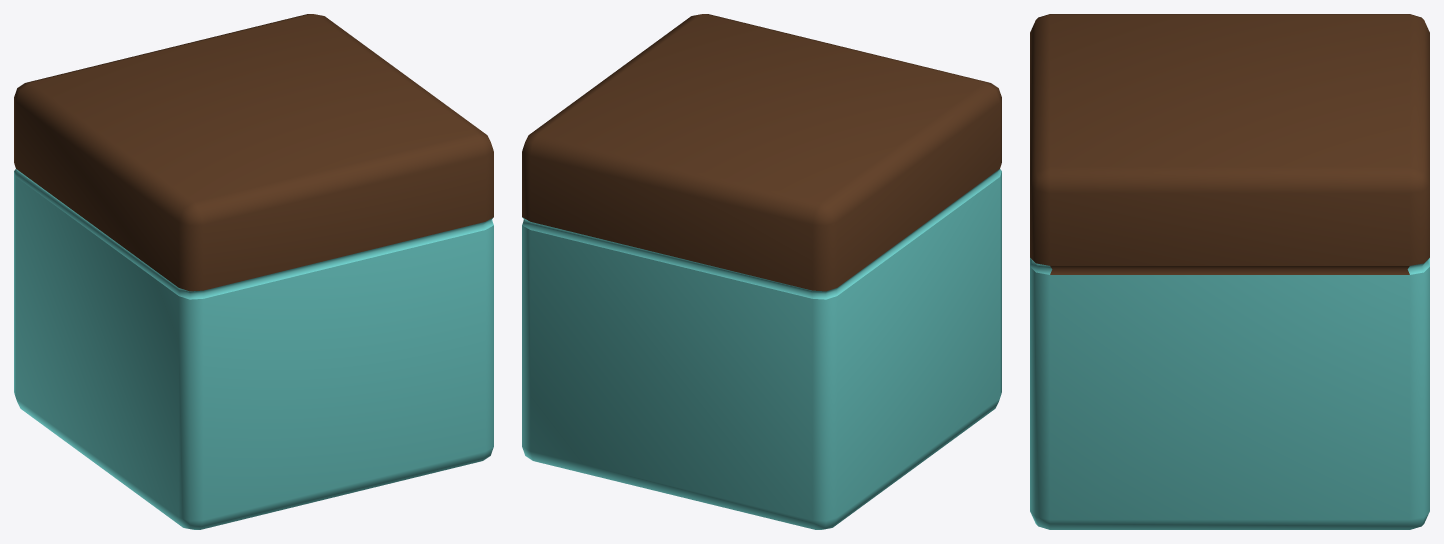
The model's file is tanahbasah.fbx.
The picture shows the model from 3 angles, left to right: view 1: azimuth 30°, elevation 25°; view 2: azimuth 150°, elevation 25°; view 3: azimuth 270°, elevation 25°; orthographic projection. The views are drawn at different scales.
Visible parts, largest first — view 1: 3D_Tile_Ground_01, 3D_Tile_Ground_01.001; view 2: 3D_Tile_Ground_01, 3D_Tile_Ground_01.001; view 3: 3D_Tile_Ground_01.001, 3D_Tile_Ground_01.
Part boxes in pixels (x1,y1,x2,y2): 3D_Tile_Ground_01: (14,169,493,529); 3D_Tile_Ground_01.001: (14,14,493,291); 3D_Tile_Ground_01: (522,169,1001,529); 3D_Tile_Ground_01.001: (522,14,1001,291); 3D_Tile_Ground_01.001: (1030,14,1429,274); 3D_Tile_Ground_01: (1030,258,1429,529).
Bounding box in the file's own units: 200 × 200 × 200.
